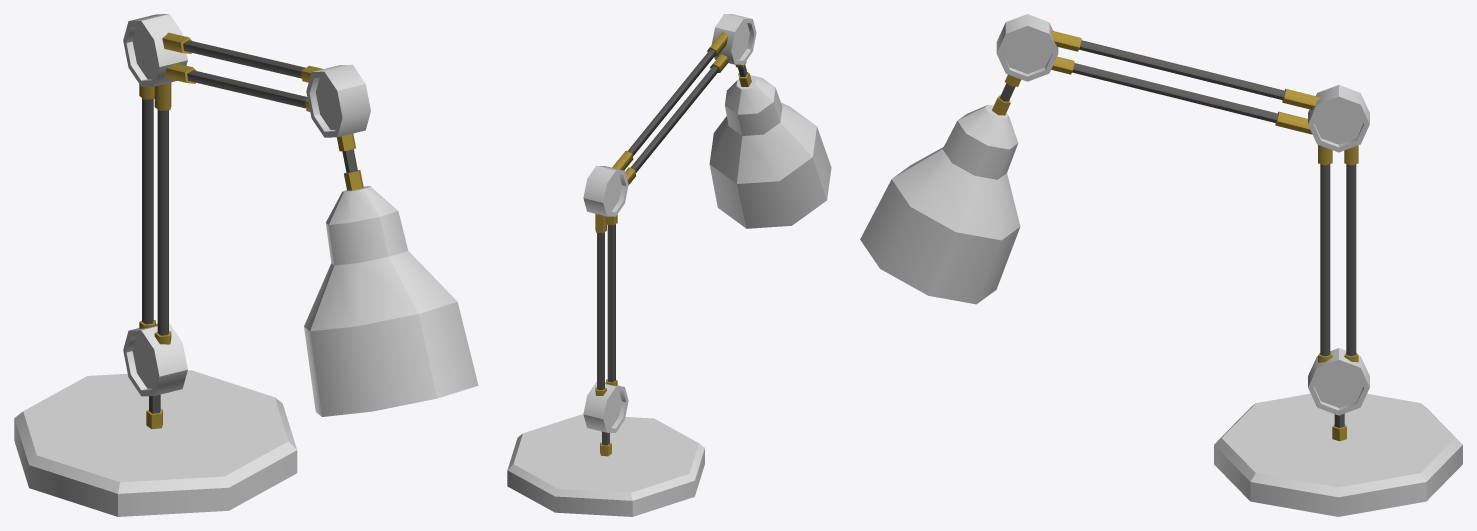
The model's file is DeskLamp-Light_01.fbx.
3 views of the same model, side by side, from view 1: azimuth 30°, elevation 25°; view 2: azimuth 150°, elevation 25°; view 3: azimuth 270°, elevation 25° (orthographic). The views are drawn at different scales.
Parts seen in each view (by area): view 1: DeskLamp_01, DeskLamp-shade_01, DeskLamp-MiddleBottomCable, DeskLamp-MiddleTopCable, DeskLamp-TopJoint, DeskLamp-BottomJoint, DeskLamp-MiddleJoint, DeskLamp-TopCable; view 2: DeskLamp_01, DeskLamp-shade_01, DeskLamp-MiddleBottomCable, DeskLamp-MiddleTopCable, DeskLamp-MiddleJoint, DeskLamp-BottomJoint, DeskLamp-TopJoint; view 3: DeskLamp_01, DeskLamp-shade_01, DeskLamp-MiddleTopCable, DeskLamp-MiddleBottomCable, DeskLamp-TopJoint, DeskLamp-MiddleJoint, DeskLamp-BottomJoint.
Part boxes in pixels (x1=…): DeskLamp_01: x1=14, y1=370, x2=297, y2=516; DeskLamp-shade_01: x1=304, y1=186, x2=478, y2=416; DeskLamp-MiddleBottomCable: x1=139, y1=82, x2=171, y2=344; DeskLamp-MiddleTopCable: x1=162, y1=32, x2=322, y2=111; DeskLamp-TopJoint: x1=306, y1=64, x2=370, y2=137; DeskLamp-BottomJoint: x1=123, y1=323, x2=187, y2=396; DeskLamp-MiddleJoint: x1=123, y1=14, x2=187, y2=86; DeskLamp-TopCable: x1=337, y1=133, x2=363, y2=190; DeskLamp_01: x1=507, y1=414, x2=704, y2=516; DeskLamp-shade_01: x1=709, y1=75, x2=831, y2=228; DeskLamp-MiddleBottomCable: x1=595, y1=213, x2=617, y2=395; DeskLamp-MiddleTopCable: x1=612, y1=31, x2=728, y2=185; DeskLamp-MiddleJoint: x1=583, y1=165, x2=628, y2=216; DeskLamp-BottomJoint: x1=583, y1=382, x2=628, y2=432; DeskLamp-TopJoint: x1=711, y1=14, x2=756, y2=64; DeskLamp_01: x1=1214, y1=393, x2=1462, y2=516; DeskLamp-shade_01: x1=860, y1=104, x2=1020, y2=304; DeskLamp-MiddleTopCable: x1=1050, y1=30, x2=1320, y2=134; DeskLamp-MiddleBottomCable: x1=1318, y1=145, x2=1358, y2=362; DeskLamp-TopJoint: x1=996, y1=14, x2=1058, y2=81; DeskLamp-MiddleJoint: x1=1308, y1=85, x2=1369, y2=152; DeskLamp-BottomJoint: x1=1308, y1=348, x2=1369, y2=415.
Bounding box in the file's own units: 0.2276 × 0.4483 × 0.551.
